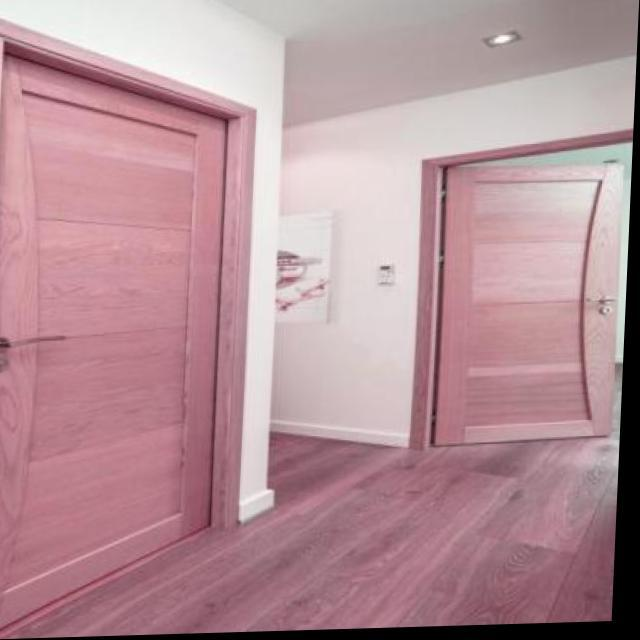door_handle: (0, 331, 77, 358), (573, 295, 620, 314)
